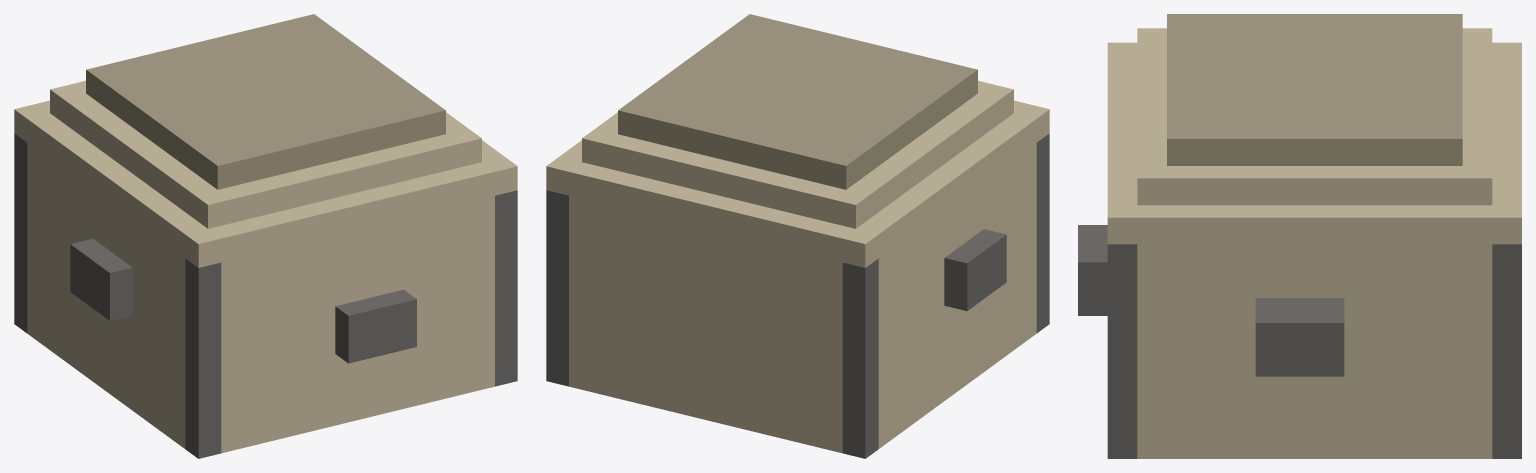
File: baul_pino_01.glb
3 renders of one model, left to right at view 1: azimuth 30°, elevation 25°; view 2: azimuth 150°, elevation 25°; view 3: azimuth 270°, elevation 25°, orthographic. The views are drawn at different scales.
Parts seen in each view (by area): view 1: baul_pino; view 2: baul_pino; view 3: baul_pino.
Boxes of the visible parts, left/top/right/bottom form: baul_pino: left=14, top=14, right=517, bottom=458; baul_pino: left=546, top=14, right=1049, bottom=458; baul_pino: left=1078, top=14, right=1521, bottom=458.
Size of the model in its own units: 1.21 by 0.7857 by 1.07.
